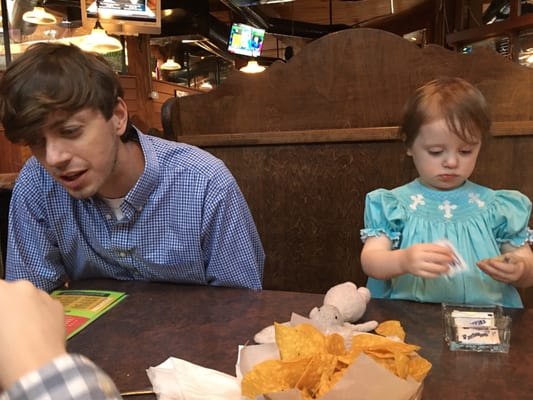curry: (5, 275, 498, 399)
sushi: (228, 22, 267, 57)
